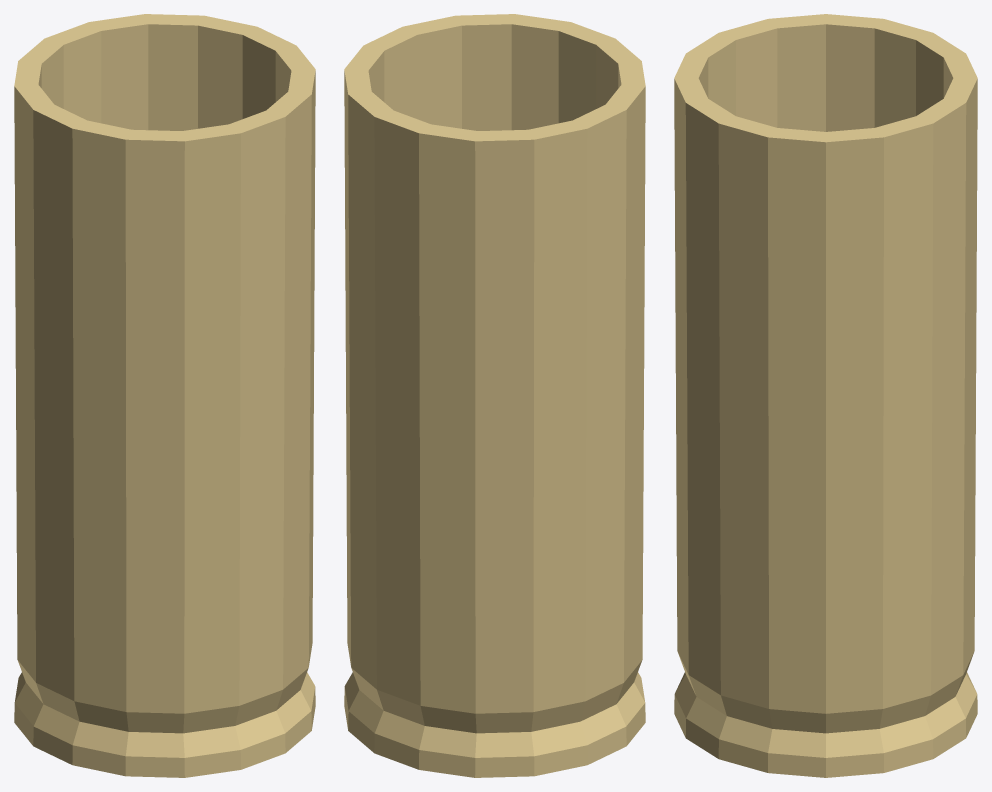
File: 50 AE Shell.fbx
3 renders of one model, left to right at view 1: azimuth 30°, elevation 25°; view 2: azimuth 150°, elevation 25°; view 3: azimuth 270°, elevation 25°, orthographic.
Parts seen in each view (by area): view 1: Cylinder.007; view 2: Cylinder.007; view 3: Cylinder.007.
Part boxes in pixels (x1,y1,x2,y2): Cylinder.007: (14,14,315,777); Cylinder.007: (344,14,645,777); Cylinder.007: (674,14,977,777).
Size of the model in its own units: 1.38 by 3.2 by 1.38.
